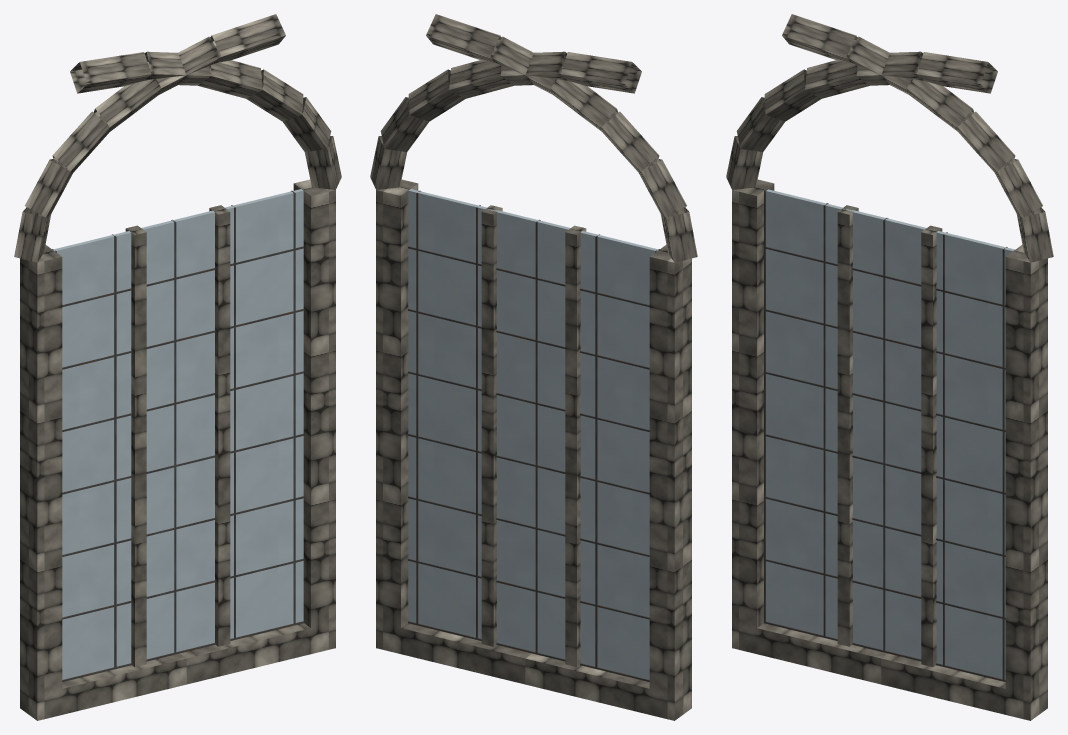
Rendered from Window_Great_1_LOD1.gltf.
3 views of the same model, side by side, from view 1: azimuth 30°, elevation 25°; view 2: azimuth 150°, elevation 25°; view 3: azimuth 330°, elevation 25° (orthographic).
Visible parts, largest first — view 1: Window_Great_1_LOD1; view 2: Window_Great_1_LOD1; view 3: Window_Great_1_LOD1.
Boxes of the visible parts, x1,y1,x2,y2 form: Window_Great_1_LOD1: [14, 14, 341, 720]; Window_Great_1_LOD1: [370, 14, 697, 720]; Window_Great_1_LOD1: [726, 14, 1053, 720].
Bounding box in the file's own units: 3.29 × 6.15 × 0.3.
Materials: 3 (3 with a texture image).
